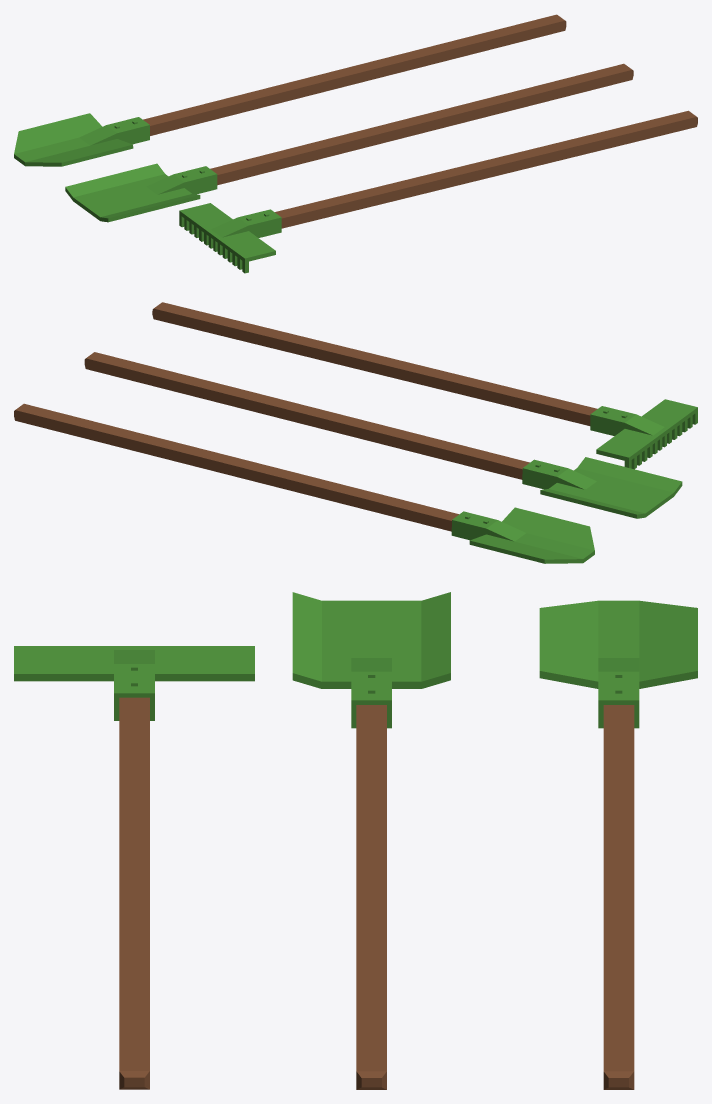
Rendered from Garden Tools.fbx.
3 views of the same model, one above another, from view 1: azimuth 30°, elevation 25°; view 2: azimuth 150°, elevation 25°; view 3: azimuth 270°, elevation 25° (orthographic). The views are drawn at different scales.
Parts seen in each view (by area): view 1: Shovel tail v2, Shovel tail v1, Rake tail, Shovel v2, Shovel, Rake; view 2: Shovel tail v2, Shovel tail v1, Rake tail, Shovel v2, Shovel, Rake; view 3: Shovel v2, Shovel, Shovel tail v1, Rake tail, Shovel tail v2, Rake.
Boxes of the visible parts, x1,y1,x2,y2 form: Shovel tail v2: [210, 63, 633, 185]; Shovel tail v1: [143, 14, 566, 135]; Rake tail: [275, 110, 697, 228]; Shovel v2: [65, 163, 217, 222]; Shovel: [14, 113, 149, 166]; Rake: [179, 203, 281, 273]; Shovel tail v2: [84, 352, 529, 479]; Shovel tail v1: [14, 403, 458, 531]; Rake tail: [152, 302, 597, 425]; Shovel v2: [522, 457, 682, 518]; Shovel: [451, 507, 594, 563]; Rake: [590, 399, 697, 469]; Shovel v2: [292, 592, 450, 728]; Shovel: [539, 600, 697, 728]; Shovel tail v1: [603, 705, 634, 1089]; Rake tail: [119, 697, 149, 1089]; Shovel tail v2: [356, 705, 386, 1089]; Rake: [14, 646, 254, 720].
Bounding box in the file's own units: 101 × 3.92 × 59.72.
